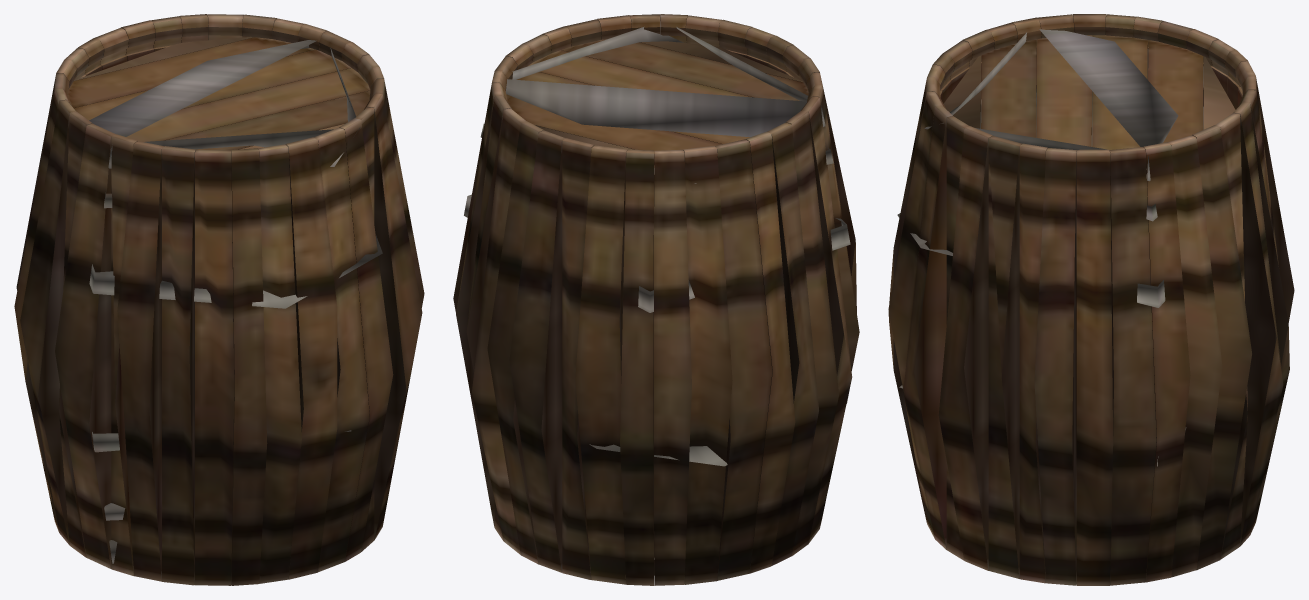
The model's file is winebarrel.glb.
The picture shows the model from 3 angles, left to right: view 1: azimuth 30°, elevation 25°; view 2: azimuth 150°, elevation 25°; view 3: azimuth 270°, elevation 25°; orthographic projection.
Parts seen in each view (by area): view 1: wine_barrel_01_Lid; view 2: wine_barrel_01_Lid; view 3: wine_barrel_01_Lid.
Part boxes in pixels (x1,y1,x2,y2): wine_barrel_01_Lid: [14, 14, 424, 585]; wine_barrel_01_Lid: [453, 14, 859, 585]; wine_barrel_01_Lid: [888, 14, 1294, 585].
Bounding box in the file's own units: 0.7391 × 0.8695 × 0.7391.
1 material, 1 textured.
